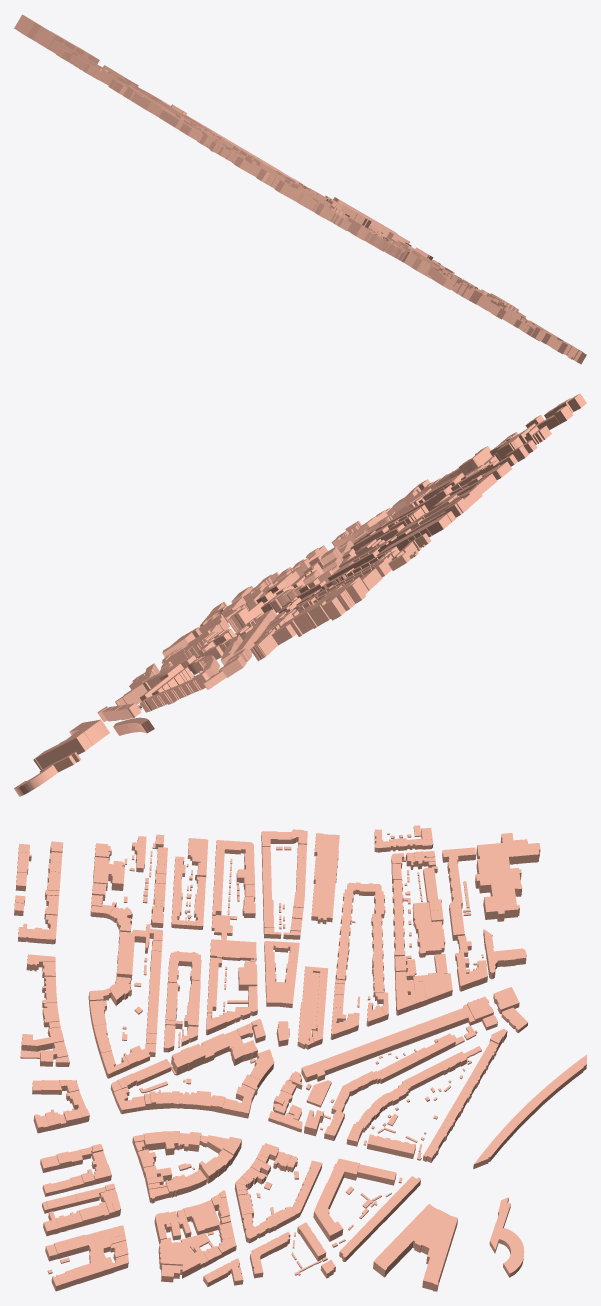
3 renders of one model, top to bottom at view 1: azimuth 30°, elevation 25°; view 2: azimuth 150°, elevation 25°; view 3: azimuth 270°, elevation 25°, orthographic. The views are drawn at different scales.
Size of the model in its own units: 532 by 400 by 698.
